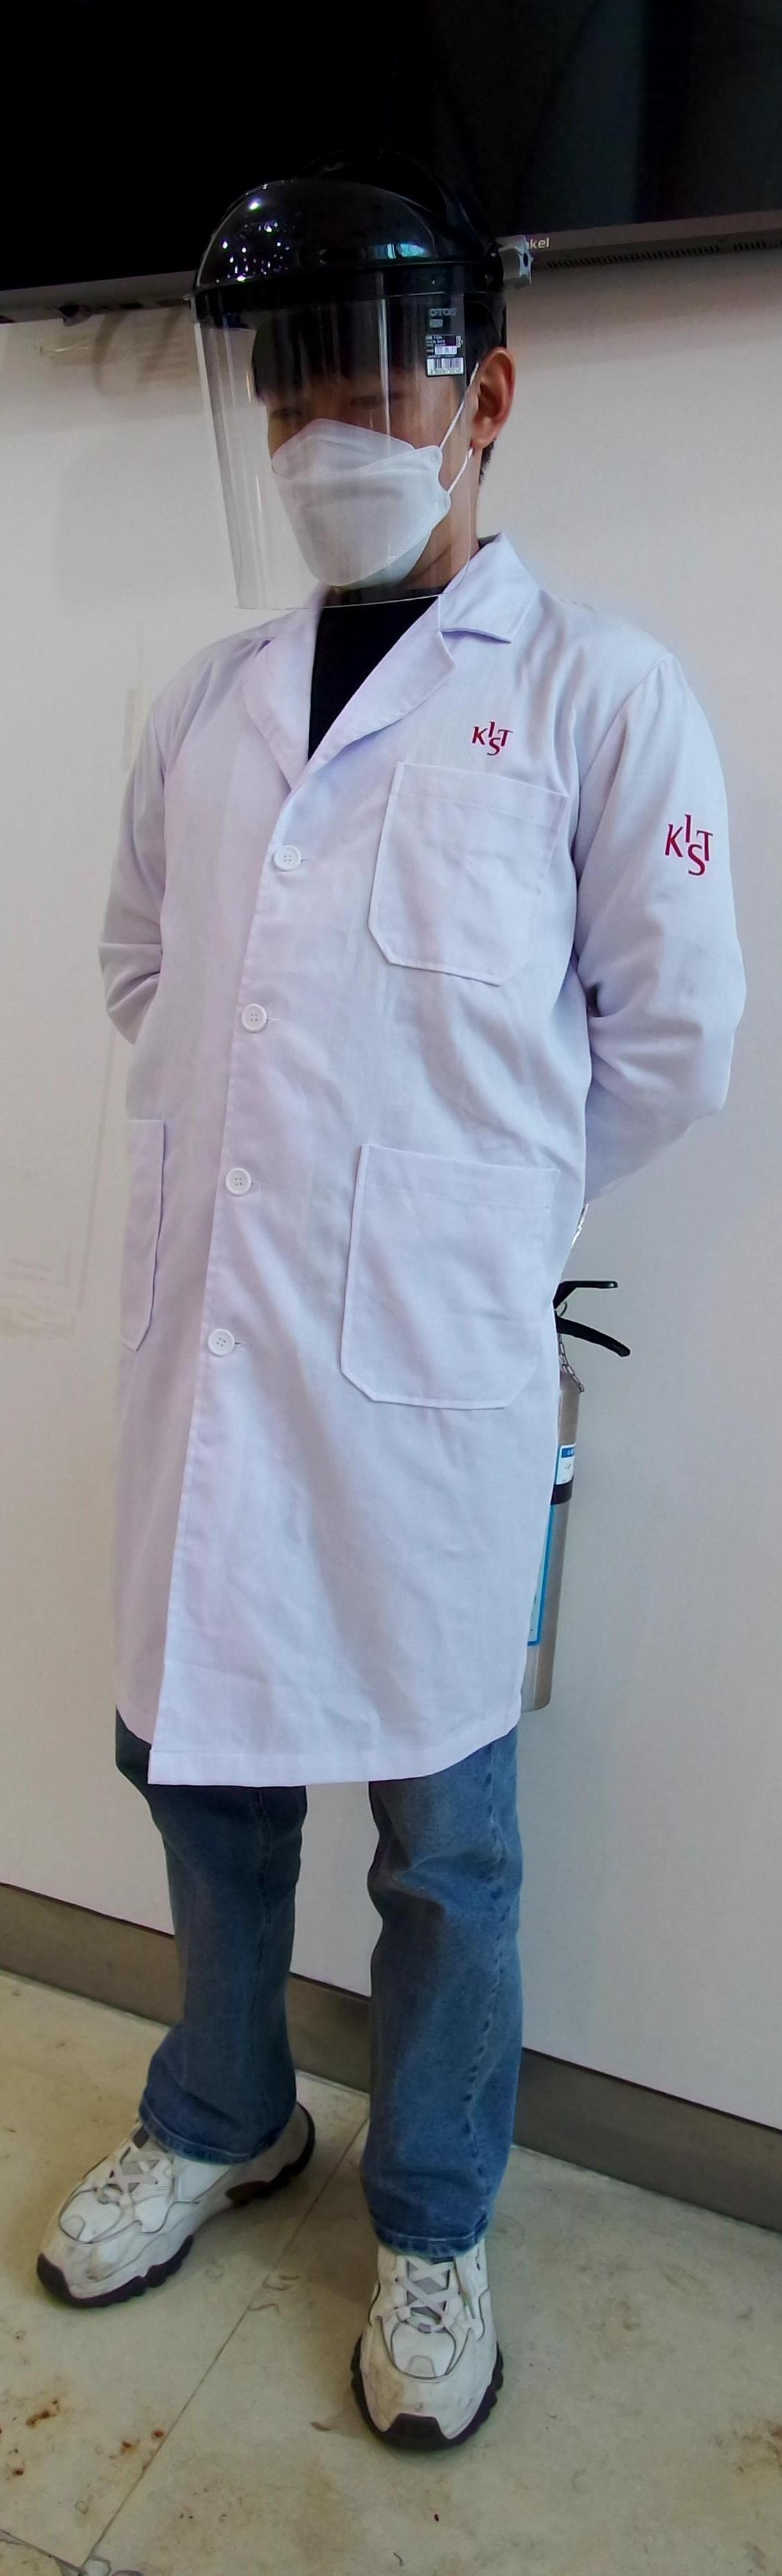lab_coat: (53, 618, 733, 1774)
